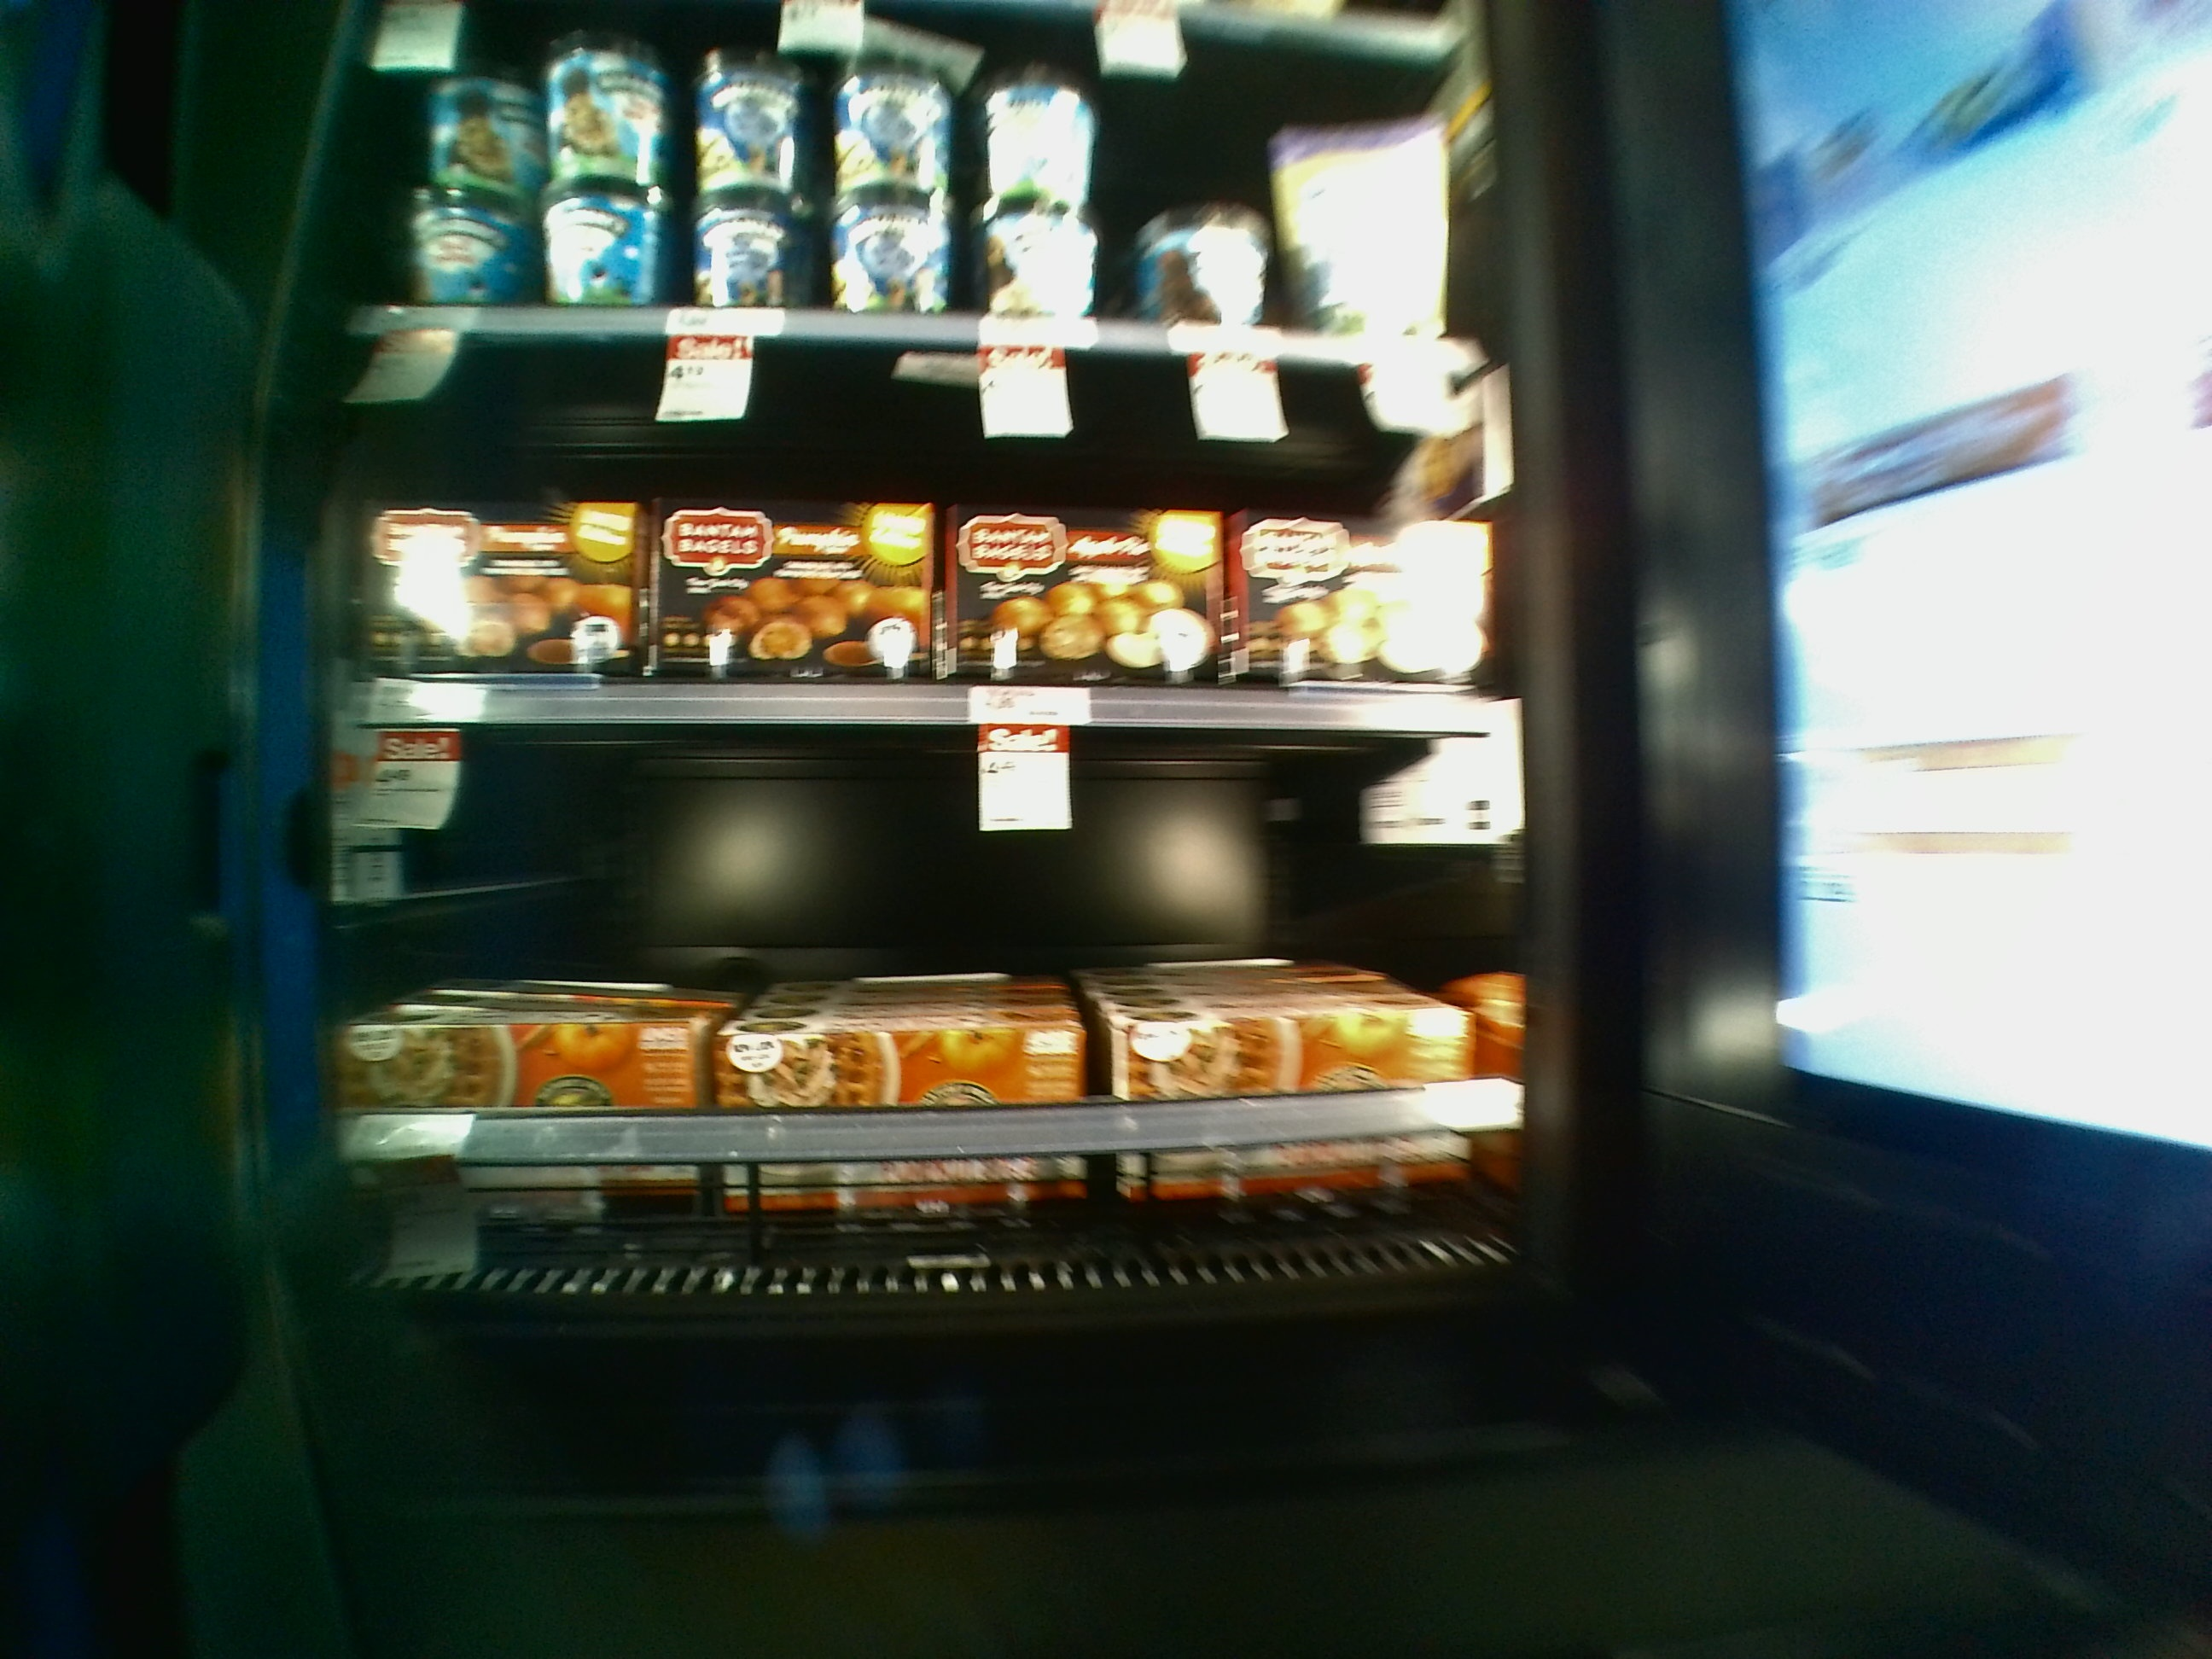shelf: (294, 695, 1550, 1321), (301, 310, 1524, 748)
